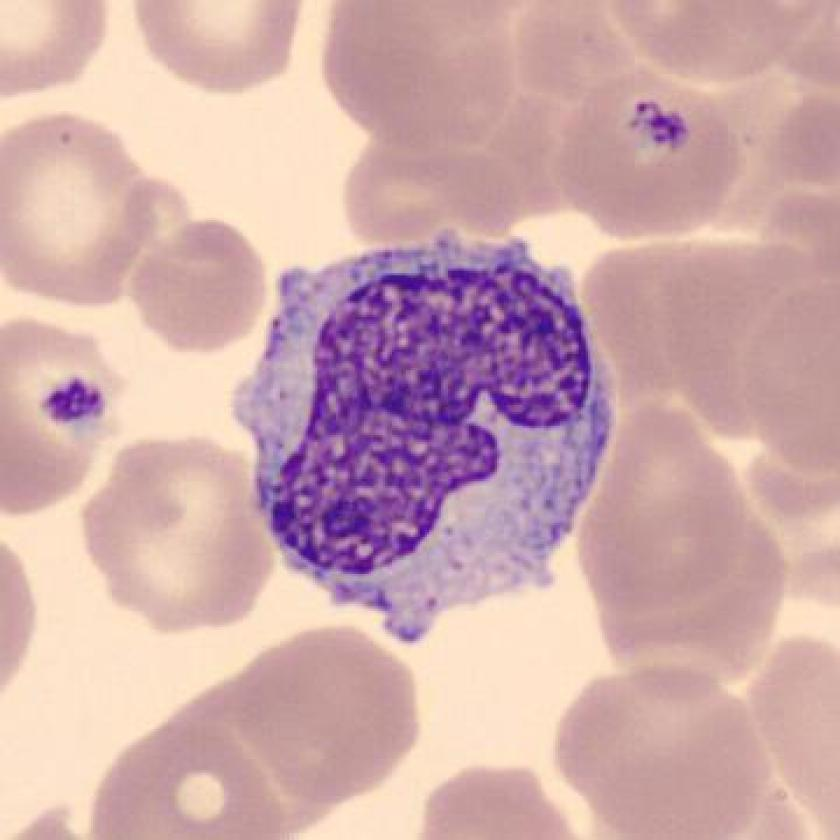monocyte: (216, 212, 631, 658)
